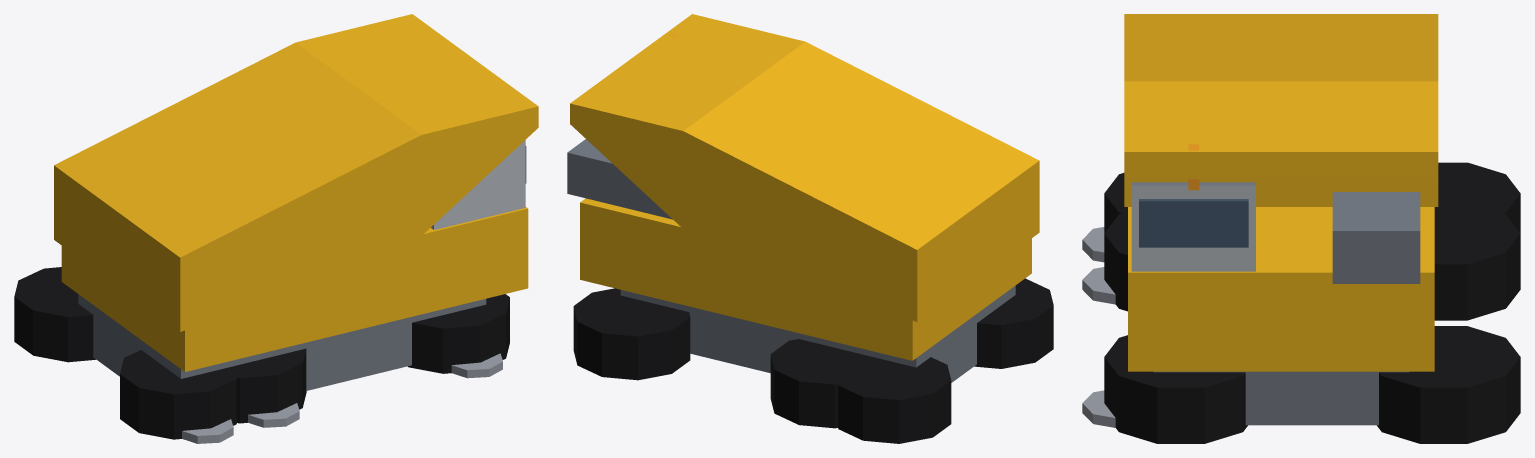
The model's file is camion_extraccion.obj.
The picture shows the model from 3 angles, left to right: view 1: azimuth 30°, elevation 25°; view 2: azimuth 150°, elevation 25°; view 3: azimuth 270°, elevation 25°; orthographic projection. The views are drawn at different scales.
Parts seen in each view (by area): view 1: camion_extraccion; view 2: camion_extraccion; view 3: camion_extraccion.
Boxes of the visible parts, x1,y1,x2,y2 form: camion_extraccion: (14, 14, 538, 443); camion_extraccion: (567, 14, 1053, 443); camion_extraccion: (1082, 14, 1520, 443).
Size of the model in its own units: 15.6 by 9.1 by 12.
